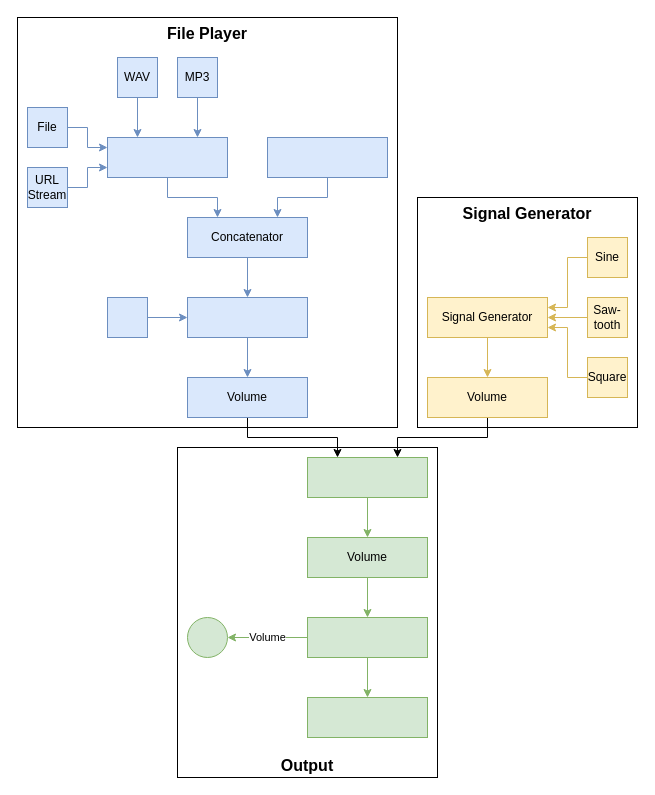
This 655x795 diagram has some shape labels left out. Here are the shapes that lost their labels. From the top down, the centre of each, then its label:
[167,157]: Decoder Stream
[327,157]: Silence Stream
[127,317]: Delay
[247,317]: Effects
[367,477]: Mixer
[207,637]: LED
[367,637]: Volume Meter
[367,717]: Audio BFF Output (I2S)
